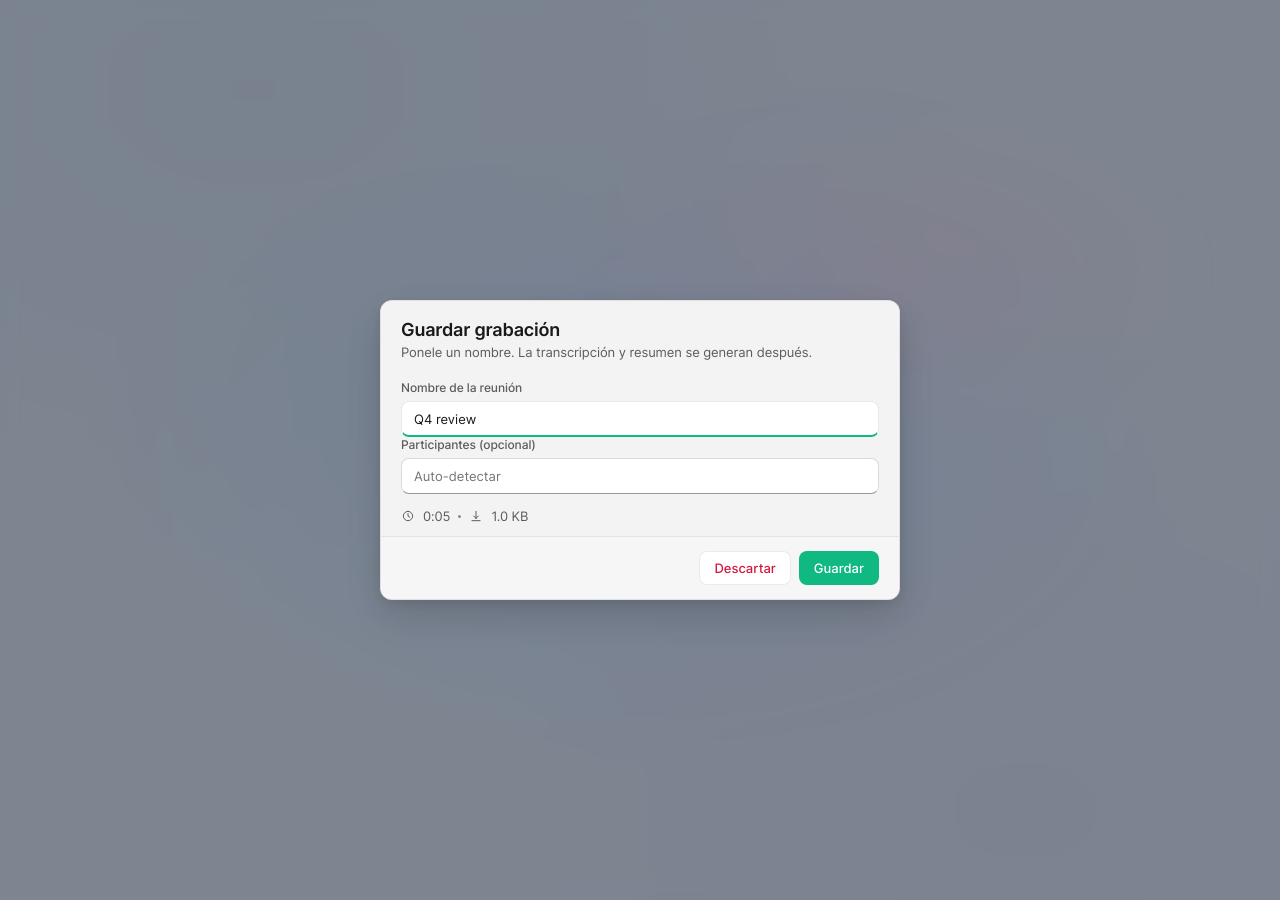
Test: StopConfirmModal › disables Save when title is blank
Clear the field showing "Q4 review" at (640, 419), box [401,401,879,437]
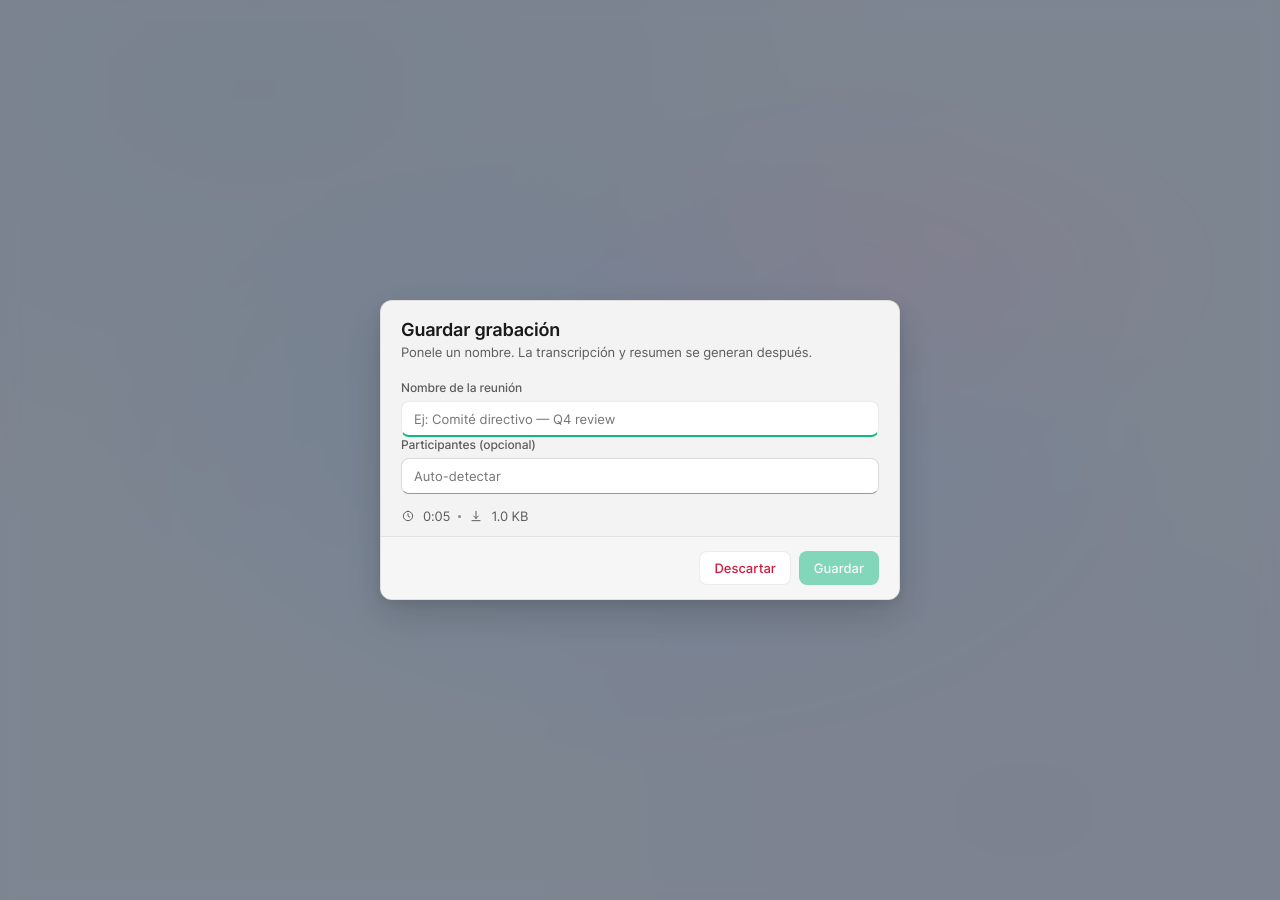
expect the button "Guardar" is disabled: met, box [799,551,879,585]
